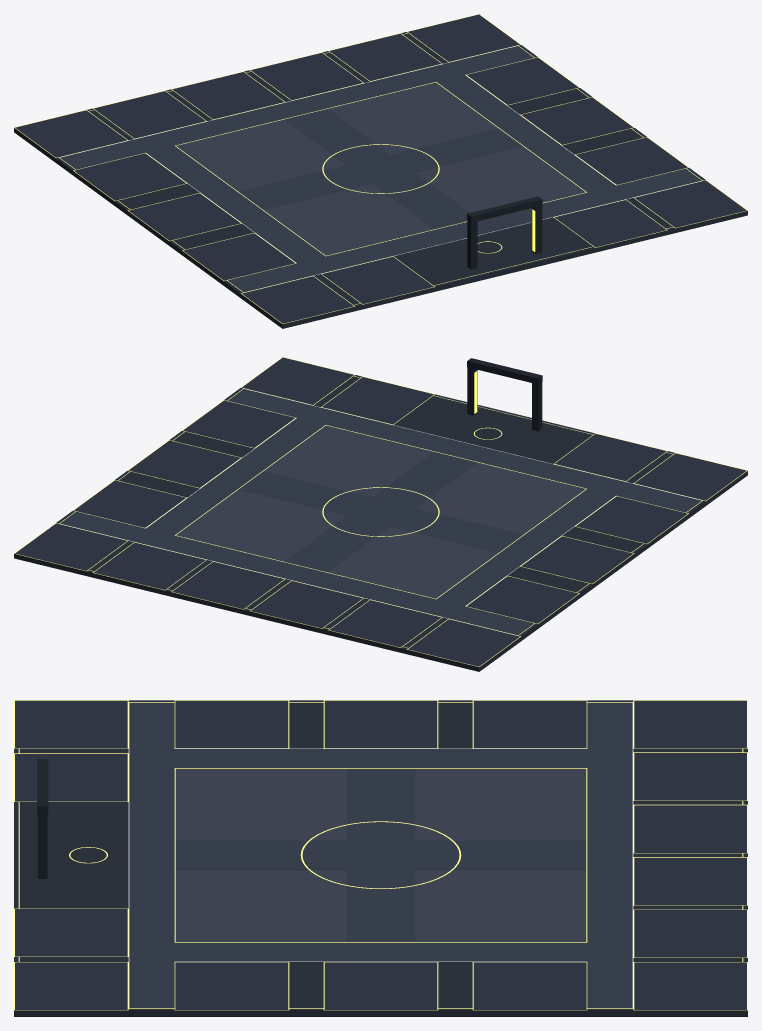
3 views of the same model, one above another, from view 1: azimuth 30°, elevation 25°; view 2: azimuth 150°, elevation 25°; view 3: azimuth 270°, elevation 25° (orthographic). The views are drawn at different scales.
Parts seen in each view (by area): view 1: district_taller.lod0; view 2: district_taller.lod0; view 3: district_taller.lod0.
Boxes of the visible parts, x1,y1,x2,y2 form: district_taller.lod0: [14, 14, 747, 328]; district_taller.lod0: [14, 357, 747, 671]; district_taller.lod0: [14, 700, 747, 1016].
Size of the model in its own units: 64 by 7.62 by 64.
